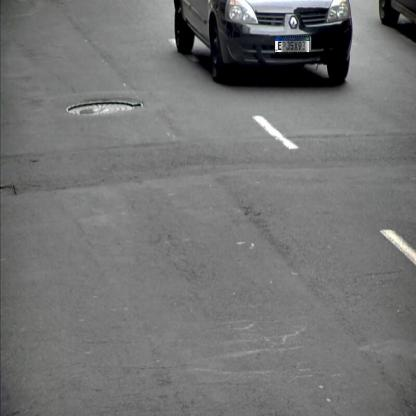PlacaM: (274, 36, 310, 53)
